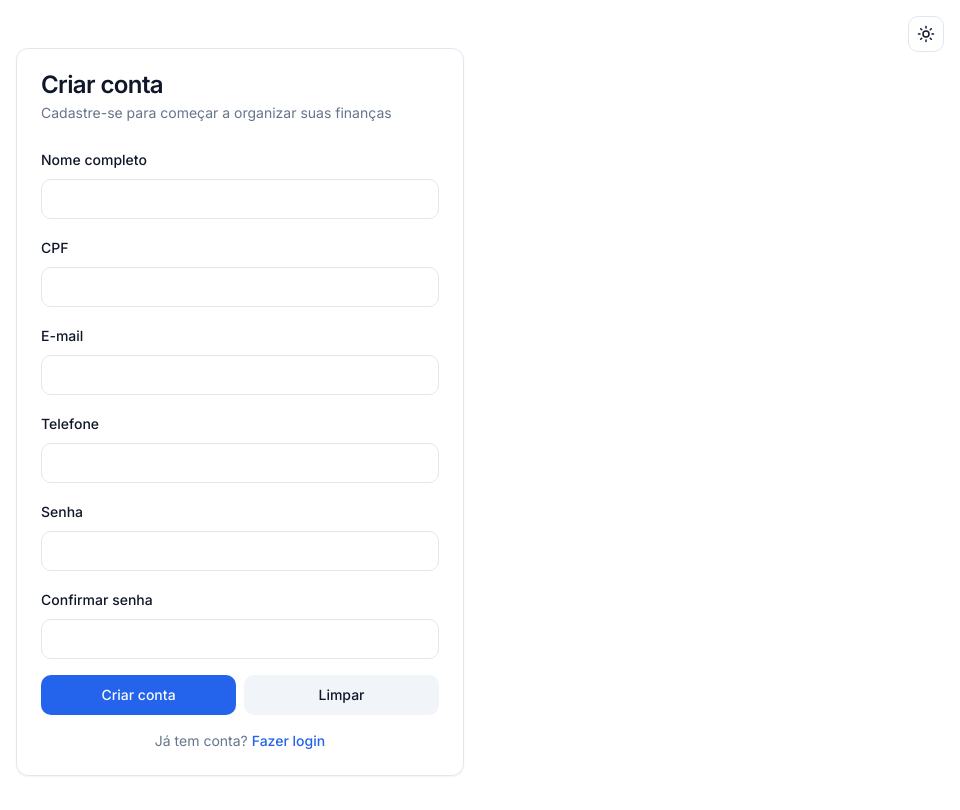
Test case: RegisterPage (AC-007) › mostra a mensagem do backend para e-mail duplicado
This screenshot has width=960, height=810.
Type "Nova Pessoa" into the field labelled "Nome completo" at (240, 199), box left=41, top=179, right=439, bottom=219
Type "11122233344" into the field labelled "CPF" at (240, 287), box left=41, top=267, right=439, bottom=307
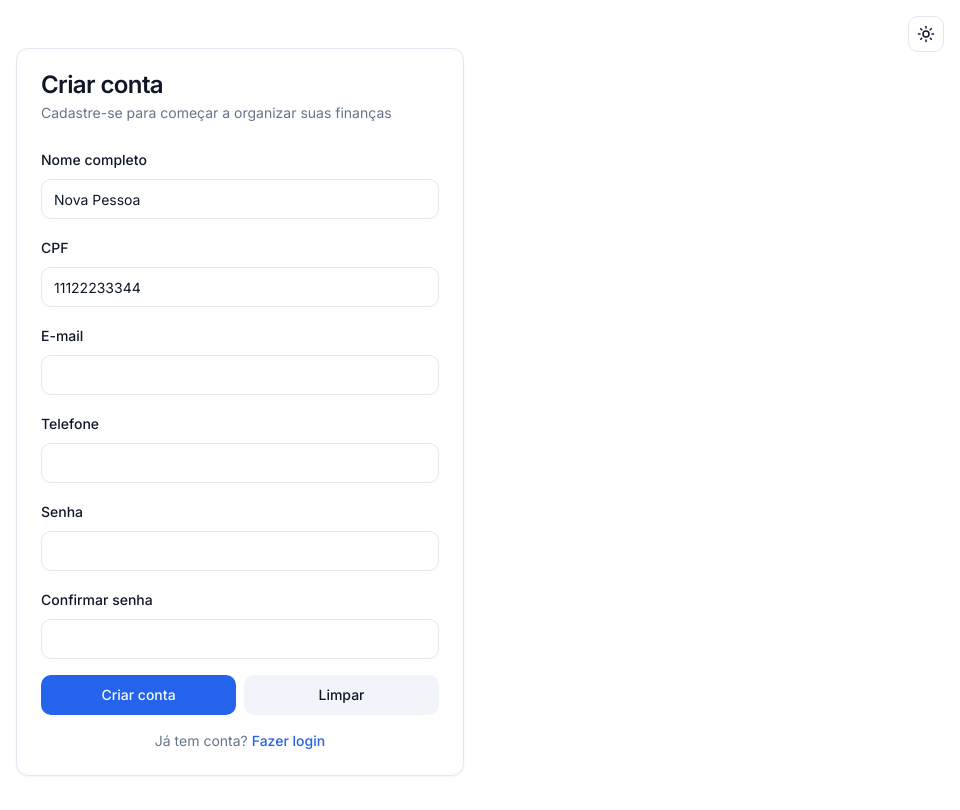
Type "demo@financas.dev" into the field labelled "E-mail" at (240, 375), box left=41, top=355, right=439, bottom=395
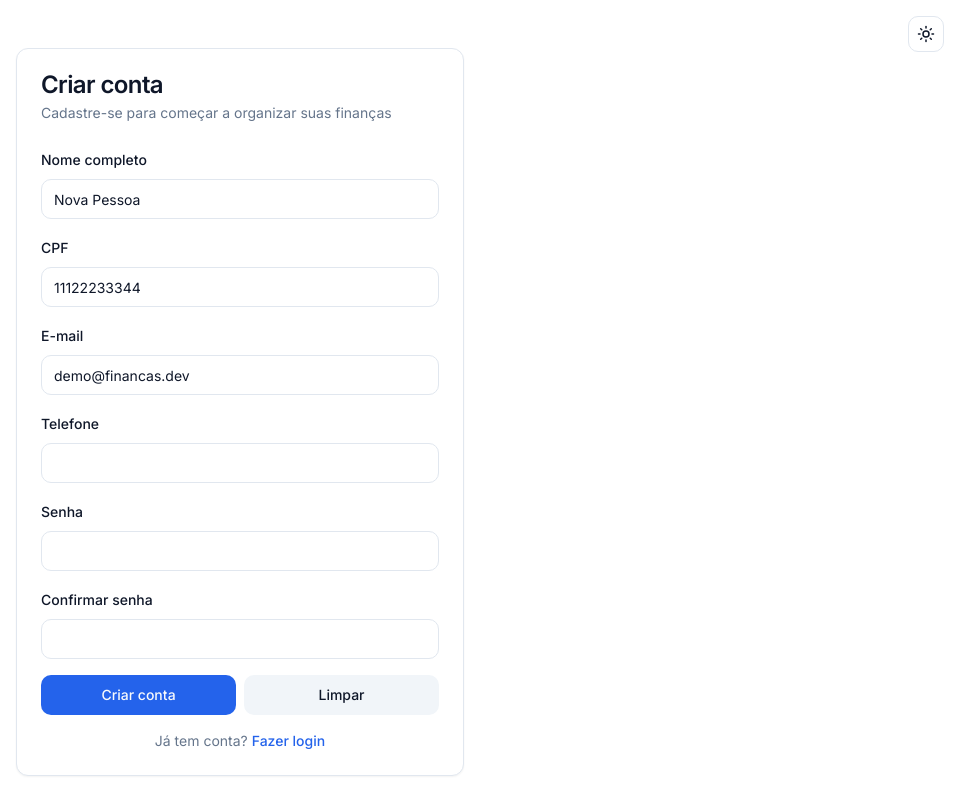
Type "(11) 98888-7777" into the field labelled "Telefone" at (240, 463), box left=41, top=443, right=439, bottom=483
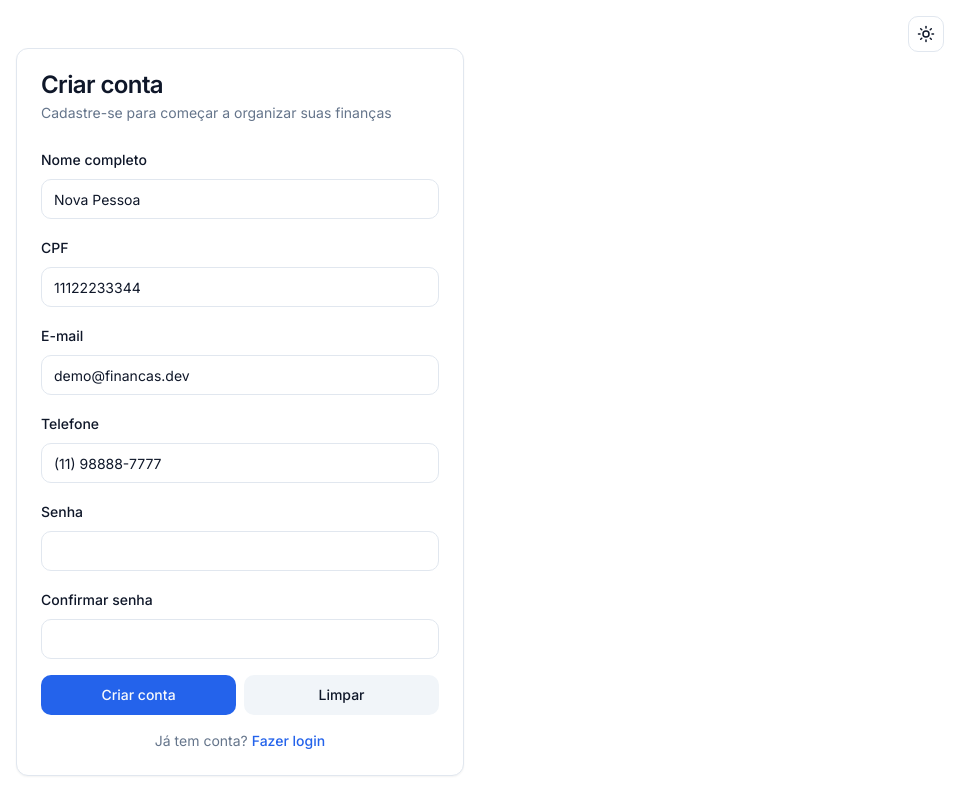
Type "123456" into the password field labelled "Senha" at (240, 551), box left=41, top=531, right=439, bottom=571
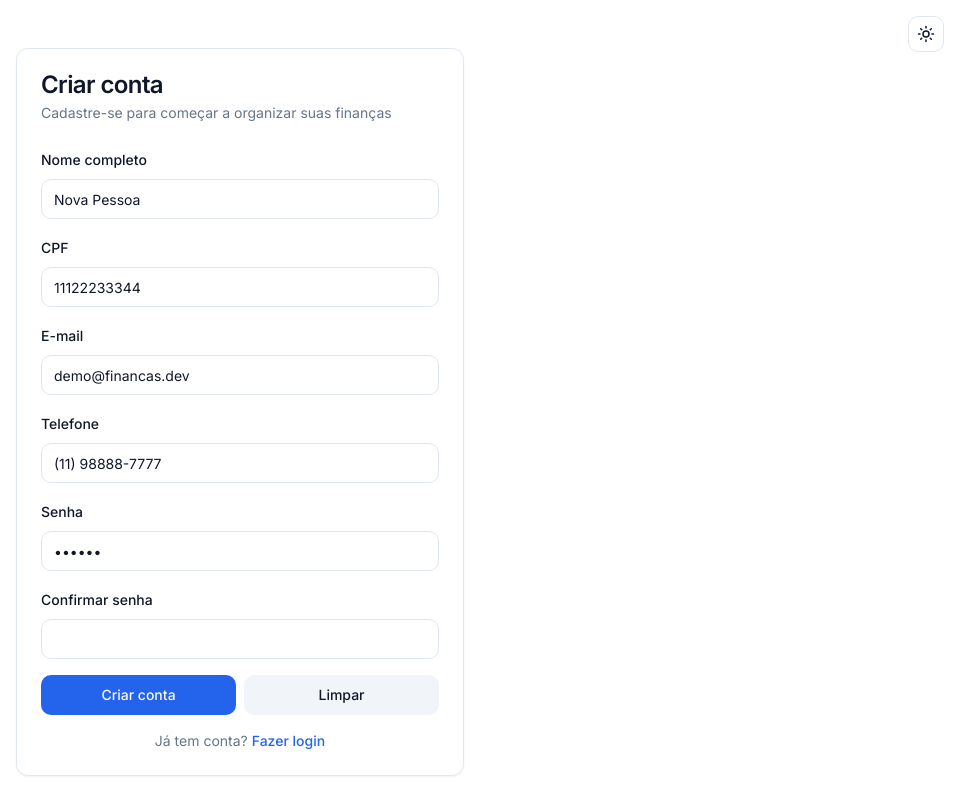
Type "123456" into the password field labelled "Confirmar senha" at (240, 639), box left=41, top=619, right=439, bottom=659
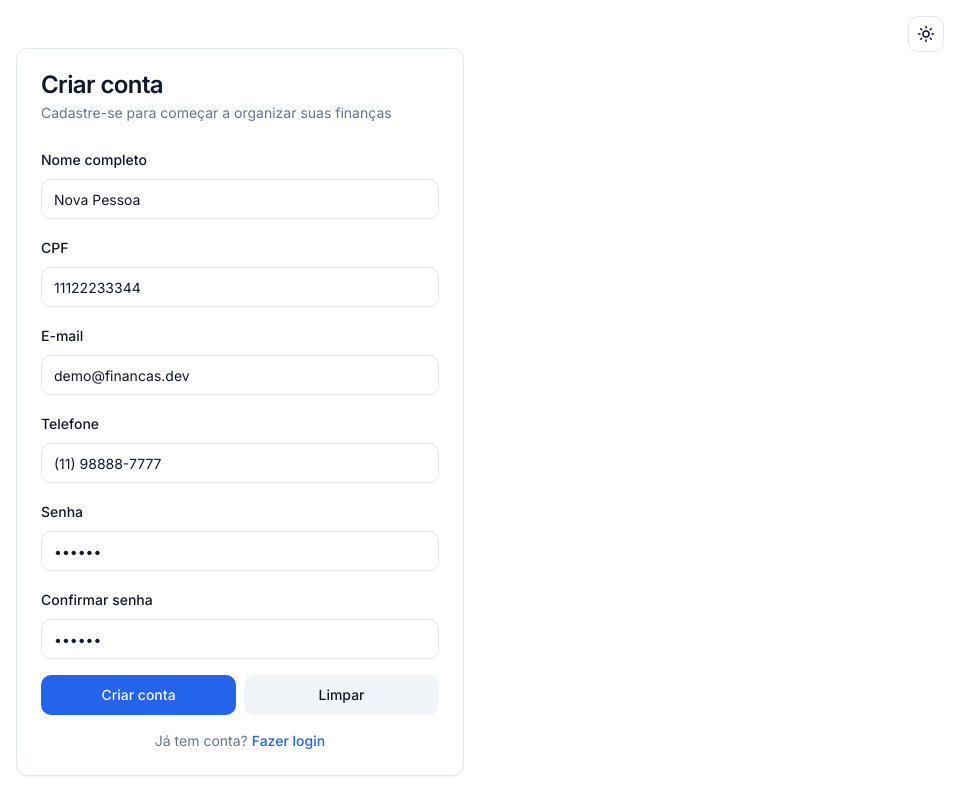
Click the button "Criar conta" at (138, 695), box left=41, top=675, right=236, bottom=715
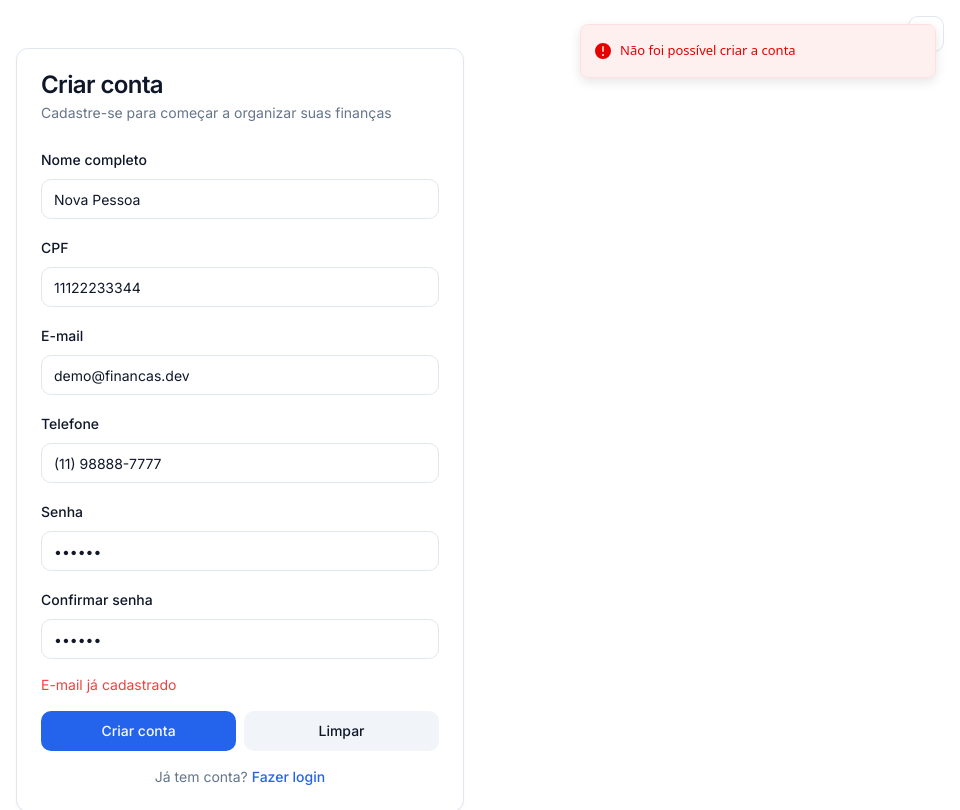
Expected: the message reads "E-mail já cadastrado", left=41, top=676, right=176, bottom=693
Expected: the text "Não foi possível criar a conta" is shown, left=620, top=41, right=796, bottom=60
